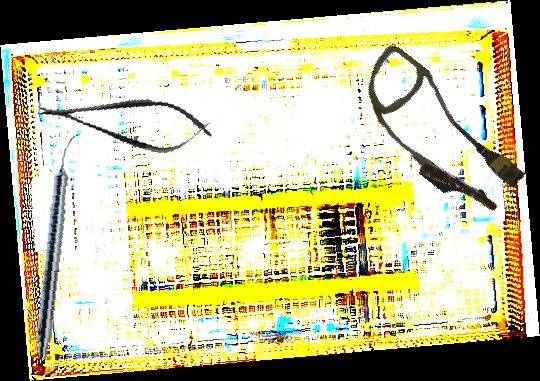Cannula: (338, 41, 539, 226)
Handpiece: (33, 134, 78, 361)
Micro Scissor: (34, 81, 216, 161)
